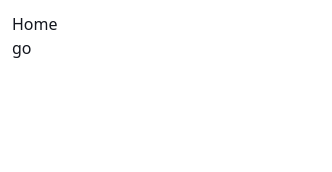
Test: usePageTitle › [frontend_i18n.AC-11] updates the title and focuses the new h1 after navigating
The width and height of the screenshot is (332, 172).
Click the link "go": (22, 48) [12,37,32,59]
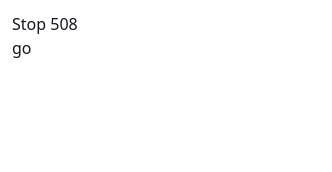
expect the heading "Stop 508" has attribute tabindex="-1": met, box [12,13,78,35]
